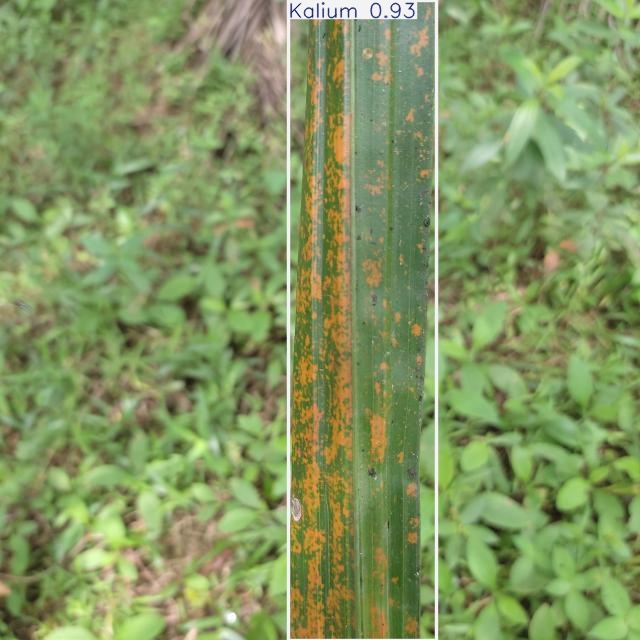Kalium: (288, 1, 436, 640)
